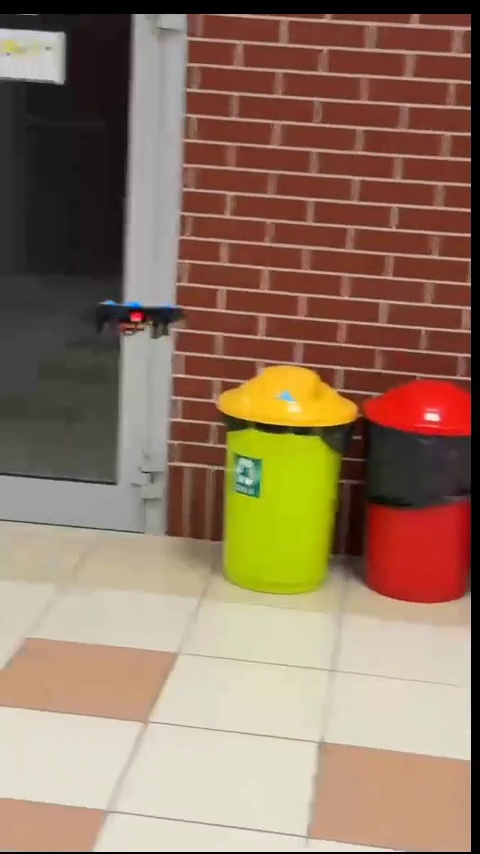drone: (89, 295, 190, 343)
